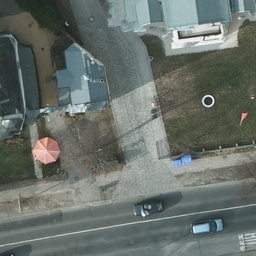car: (189, 218, 223, 237), (130, 197, 161, 216)
